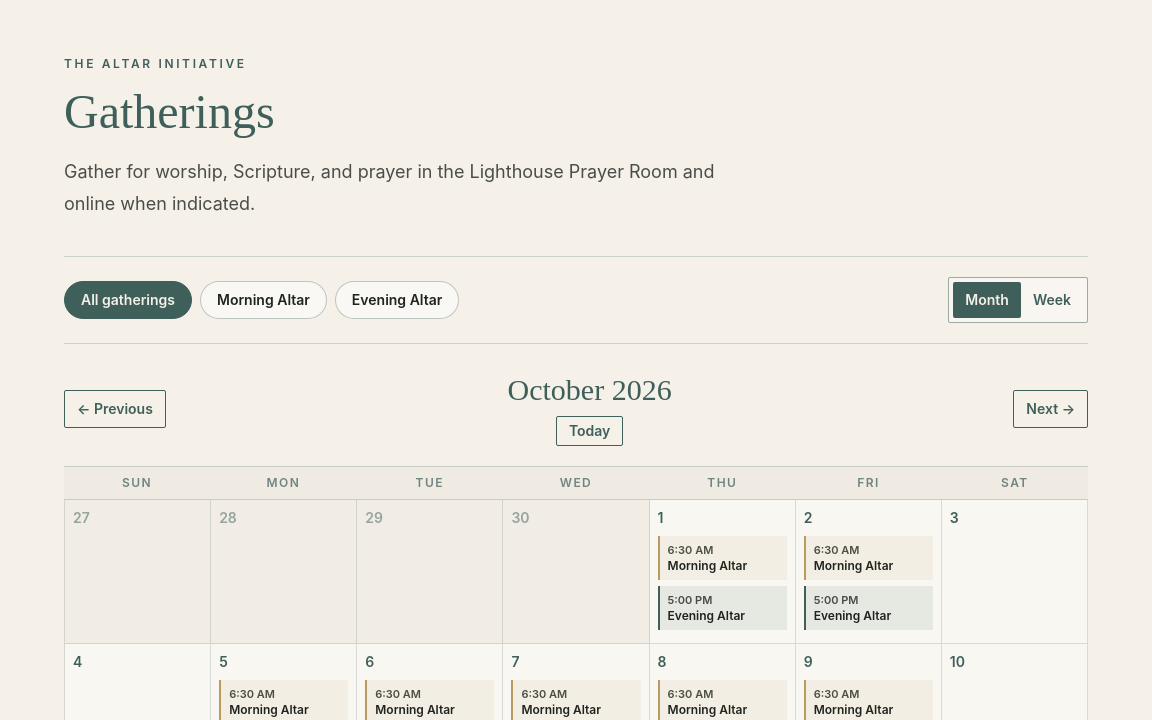
PublicCalendar › presents the weekday Altar rhythm in a switchable calendar
This screenshot has width=1152, height=720.
expect the heading "October 2026" is shown: met, box [508,372,672,408]
Click the button "Week". click: [1052, 300]
box: [1021,282,1083,318]
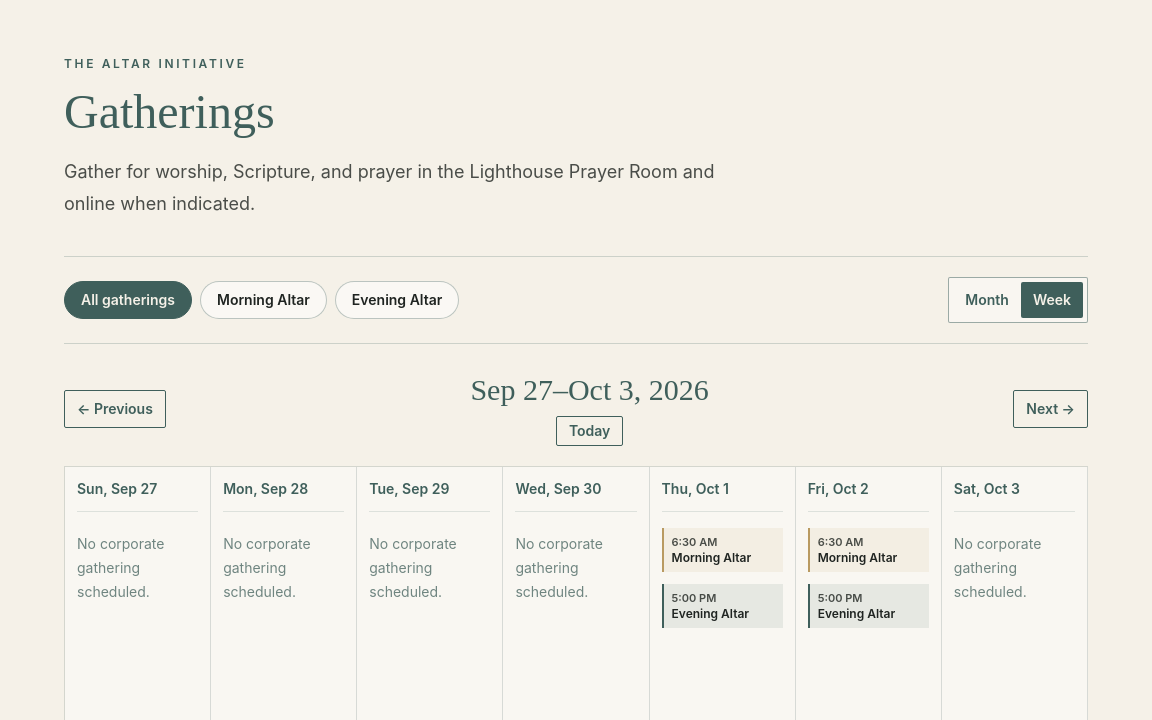
expect the button with aria-label "Previous week" is shown: met, box [64,390,166,428]
expect the heading "Sep 27–Oct 3, 2026" is shown: met, box [470,372,709,408]
